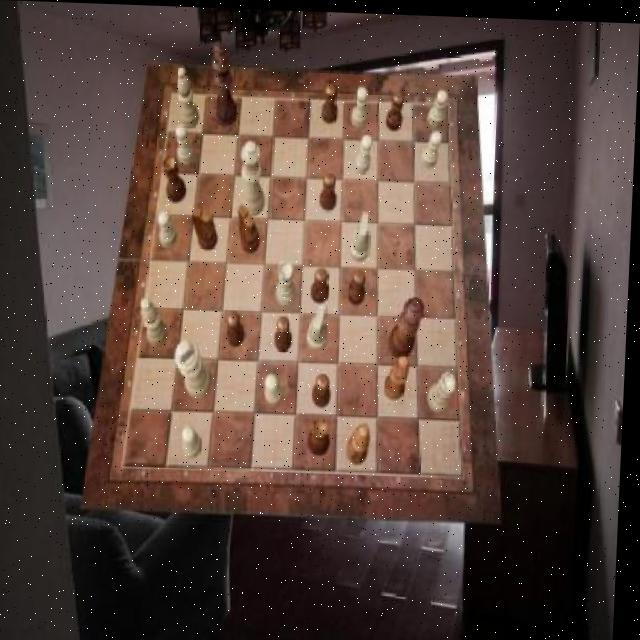bishop: (387, 351, 413, 398), (350, 420, 375, 463)
black-bishop: (211, 40, 241, 125)
black-king: (239, 204, 265, 253), (192, 204, 221, 247)
black-knight: (387, 88, 406, 129), (230, 309, 250, 345), (321, 171, 339, 209), (322, 82, 339, 122), (315, 371, 334, 406), (277, 315, 296, 350), (313, 265, 332, 300), (350, 267, 369, 302)
black-pawn: (391, 293, 429, 357)
black-queen: (164, 154, 190, 202), (311, 416, 335, 455)
black-rook: (176, 65, 202, 128), (142, 295, 171, 345)
white-bishop: (176, 338, 217, 399)
white-king: (351, 209, 373, 261), (310, 302, 332, 350)
white-knight: (176, 124, 197, 164), (422, 128, 443, 166), (429, 86, 450, 124), (159, 209, 180, 246), (351, 84, 369, 126), (186, 423, 207, 457), (356, 132, 374, 171), (268, 373, 288, 406)
white-pawn: (241, 138, 269, 213)
white-queen: (431, 368, 460, 410), (279, 258, 300, 304)
